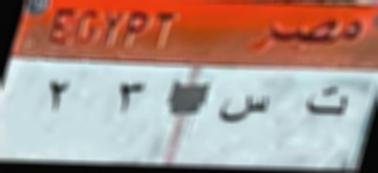2: (40, 71, 73, 116)
3: (112, 74, 147, 116)
seen: (216, 87, 272, 130)
taa: (294, 80, 348, 125)
